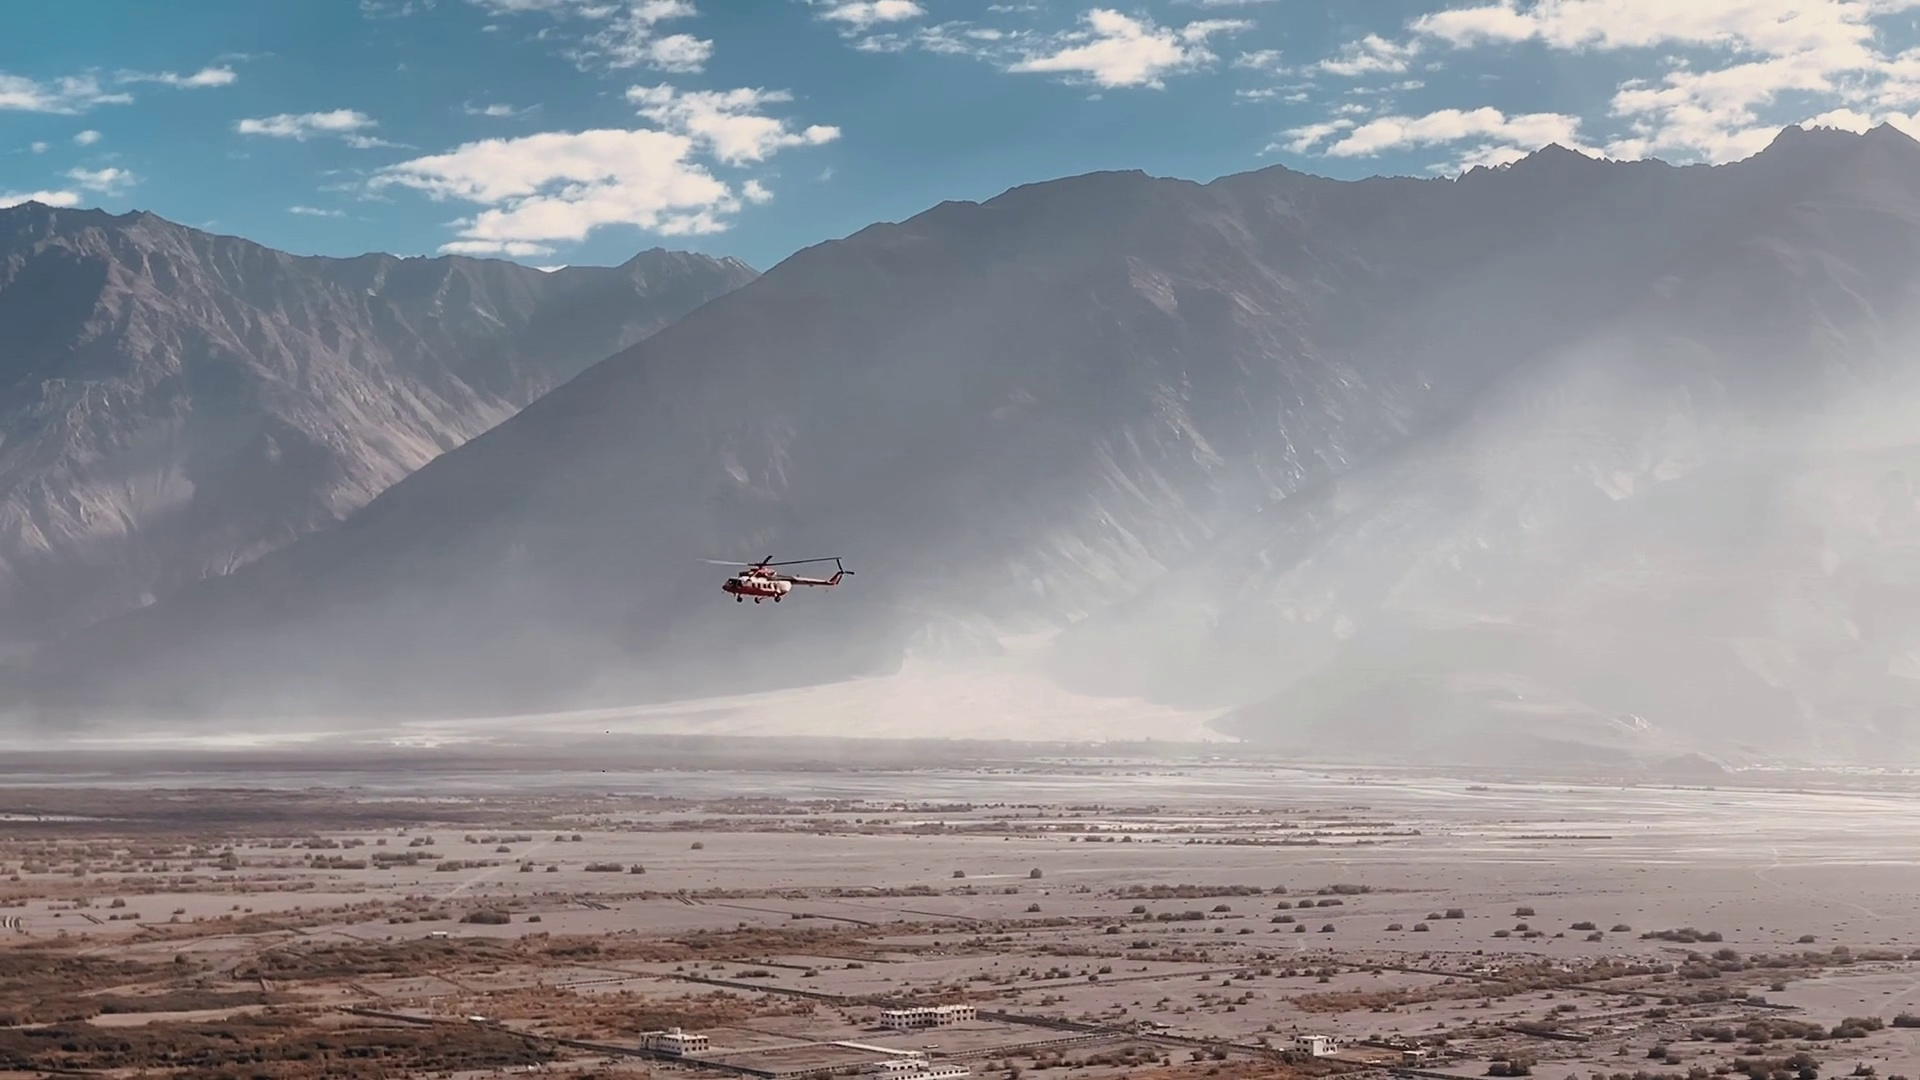heli: (698, 547, 855, 605)
